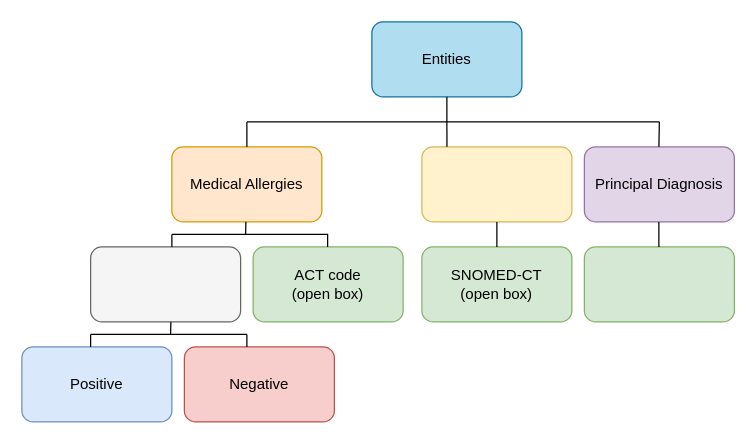
This 756x444 diagram has some shape labels left out. The shapes that lost their labels are listed below. From the top down, each one's centre as x and y in pixels, then its label:
pixel 496 184: Usual Medication
pixel 165 284: Polarity
pixel 658 284: ICD-10 (open box)
